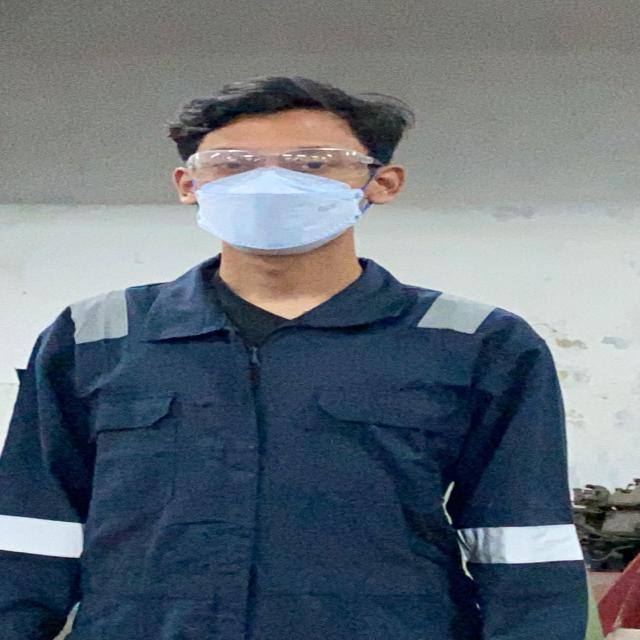face_mask: (188, 140, 372, 246)
glasses: (177, 144, 398, 185)
head_nohelmet: (174, 78, 409, 142)
person: (0, 79, 605, 640)
